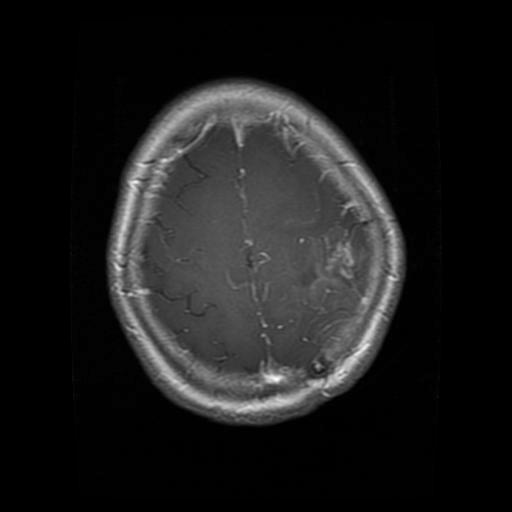Tumour-Glioma: (308, 220, 380, 310)
